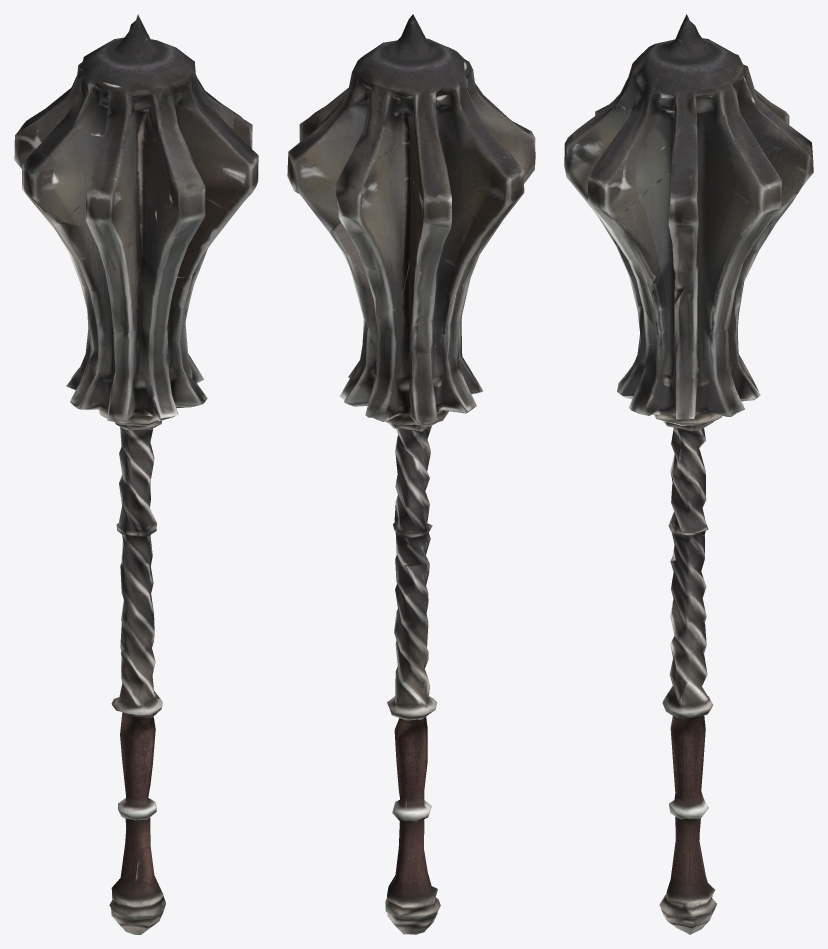
Rendered from 1481_mace.glb.
3 renders of one model, left to right at view 1: azimuth 30°, elevation 25°; view 2: azimuth 150°, elevation 25°; view 3: azimuth 270°, elevation 25°, orthographic.
Visible parts, largest first — view 1: Model; view 2: Model; view 3: Model.
Boxes of the visible parts, <box> form: Model: <box>14,14,258,934</box>; Model: <box>287,14,535,934</box>; Model: <box>564,14,813,934</box>.
Bounding box in the file's own units: 0.2464 × 1 × 0.2459.
1 material, 1 textured.
